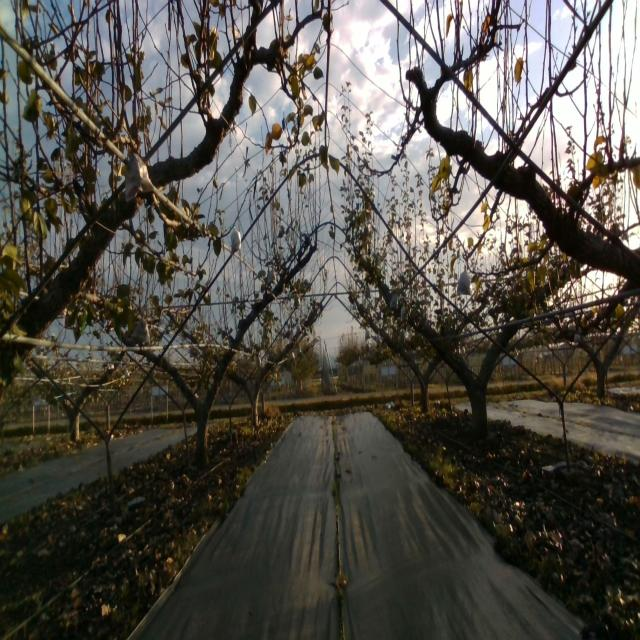pearbags: (124, 150, 156, 202), (456, 264, 471, 296), (230, 225, 242, 253), (267, 266, 278, 286)
